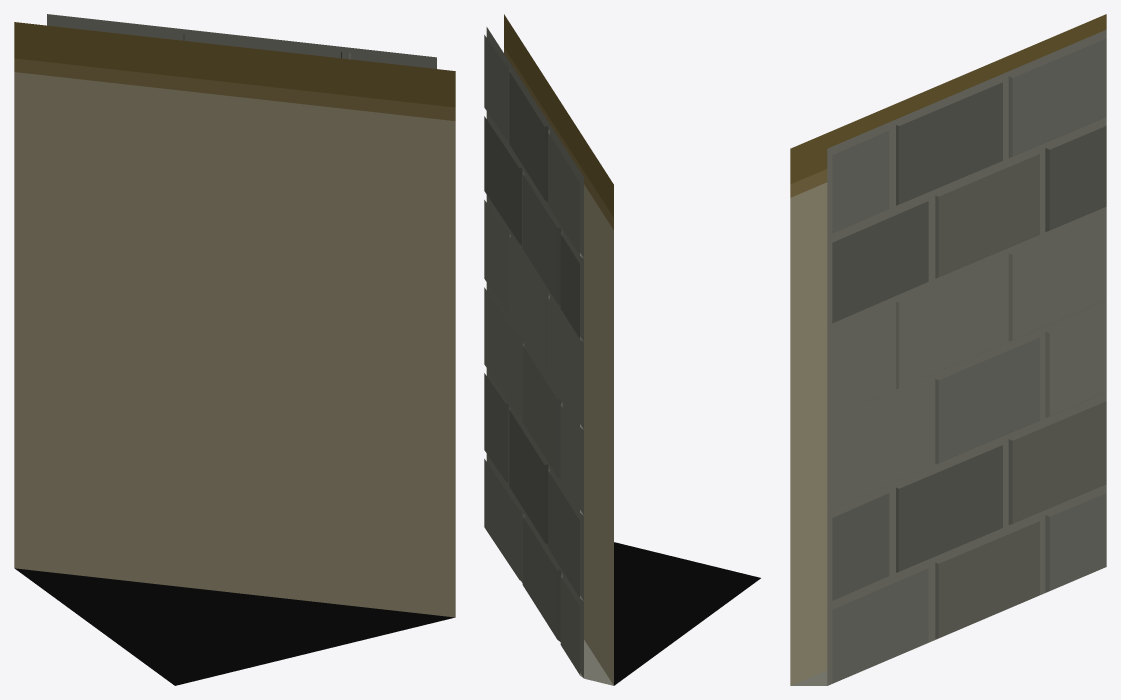
The picture shows the model from 3 angles, left to right: view 1: azimuth 30°, elevation 25°; view 2: azimuth 150°, elevation 25°; view 3: azimuth 270°, elevation 25°; orthographic projection. The views are drawn at different scales.
Size of the model in its own units: 1.01 by 1.88 by 1.
